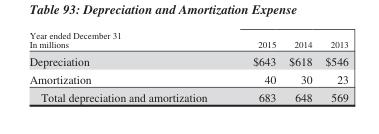table: (28, 29, 347, 103)
table column: (28, 29, 229, 103), (229, 29, 281, 103), (281, 29, 318, 103), (318, 29, 347, 103)
table column header: (28, 29, 347, 51)
table row: (28, 29, 347, 51), (28, 51, 347, 69), (28, 69, 347, 87), (28, 87, 347, 103)
